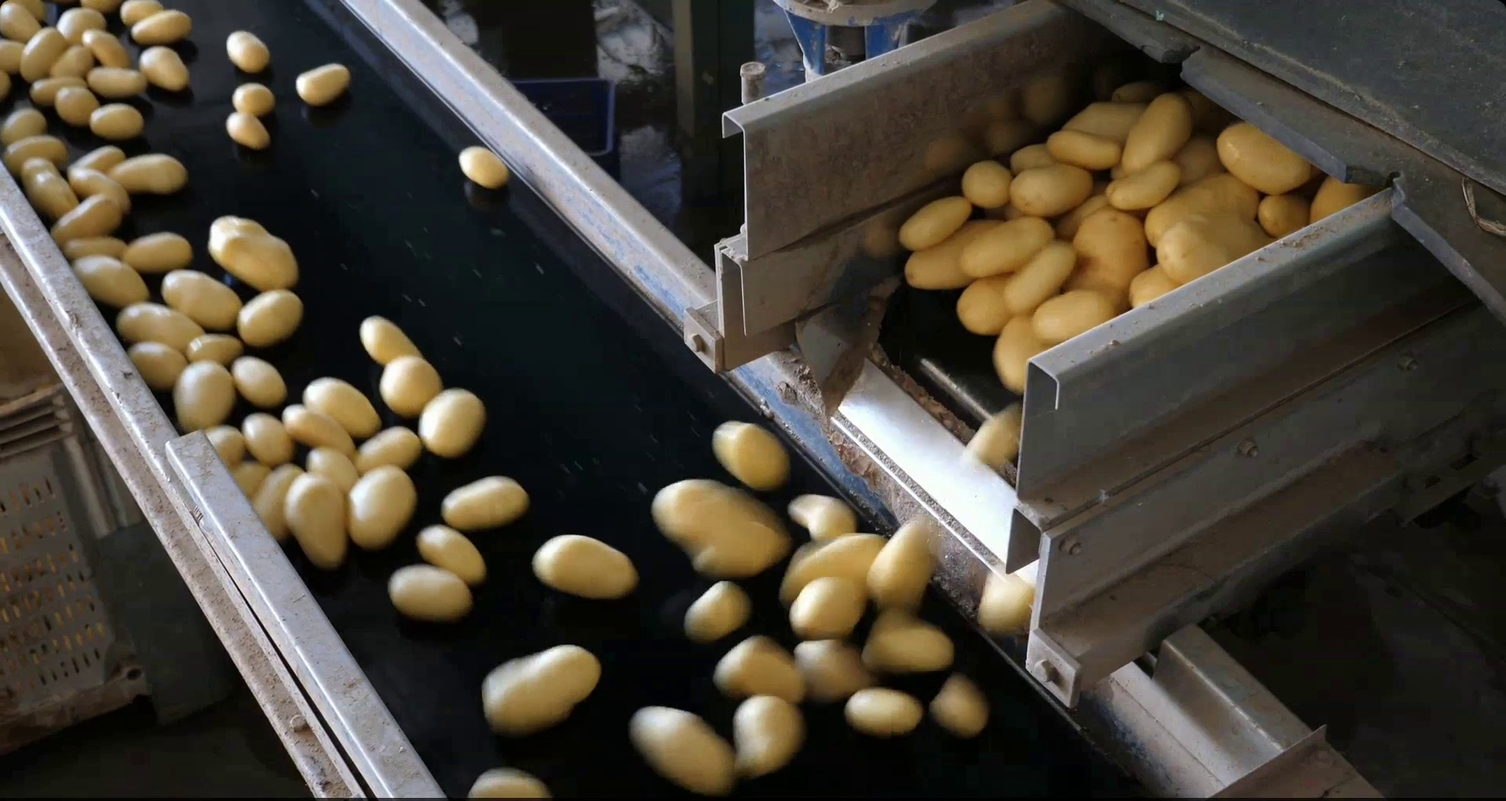potato: (641, 469, 795, 579), (465, 636, 610, 738), (624, 700, 742, 800), (773, 523, 899, 611), (1147, 210, 1274, 293), (1134, 168, 1262, 249), (1060, 204, 1151, 314), (1210, 109, 1320, 198), (518, 527, 646, 603), (889, 216, 1011, 295), (200, 210, 303, 298), (862, 509, 945, 617), (726, 686, 811, 788), (281, 468, 359, 573), (705, 627, 810, 704), (858, 604, 961, 681), (955, 212, 1062, 285), (342, 458, 423, 551), (995, 237, 1086, 317), (1120, 84, 1199, 176), (704, 416, 798, 493), (989, 308, 1066, 400), (953, 393, 1031, 480), (1020, 283, 1121, 350), (797, 629, 880, 706), (433, 469, 531, 533), (962, 560, 1040, 640), (415, 382, 491, 464), (298, 370, 387, 440), (169, 353, 238, 443), (784, 572, 869, 645), (111, 295, 213, 353), (385, 559, 476, 624), (1002, 159, 1102, 218), (243, 460, 312, 545), (40, 190, 126, 258), (158, 264, 242, 332), (677, 571, 757, 642), (278, 398, 359, 468), (231, 281, 312, 351), (832, 680, 926, 740), (64, 249, 152, 313), (412, 520, 493, 589), (893, 190, 976, 256), (946, 272, 1021, 341), (1097, 156, 1184, 215), (374, 353, 449, 421), (781, 488, 860, 549), (926, 669, 992, 740), (351, 422, 424, 485), (1304, 164, 1373, 230), (17, 151, 79, 224), (351, 314, 433, 369), (459, 759, 564, 801), (1123, 257, 1197, 312), (106, 148, 192, 194), (124, 334, 191, 393), (1045, 125, 1124, 175), (452, 140, 520, 198), (1064, 93, 1146, 140), (235, 407, 296, 470), (227, 349, 288, 411), (955, 155, 1017, 216), (287, 60, 358, 111), (119, 229, 200, 273), (301, 441, 365, 496), (1249, 187, 1315, 239), (1, 131, 71, 179), (17, 22, 67, 88), (220, 20, 277, 75), (56, 228, 135, 266), (126, 6, 197, 48), (1172, 125, 1220, 187), (80, 98, 147, 142), (21, 65, 91, 107), (999, 140, 1078, 176), (220, 106, 277, 155), (136, 44, 190, 94), (201, 417, 249, 473), (78, 25, 136, 71), (180, 330, 249, 368), (68, 163, 130, 205), (82, 63, 151, 100), (49, 82, 102, 129), (227, 452, 271, 504), (70, 138, 128, 177), (43, 42, 98, 83), (53, 5, 108, 46), (230, 79, 283, 119), (1, 107, 48, 151), (1, 1, 45, 45), (115, 1, 171, 27), (1, 30, 26, 73), (1, 63, 14, 103), (78, 1, 119, 12)
